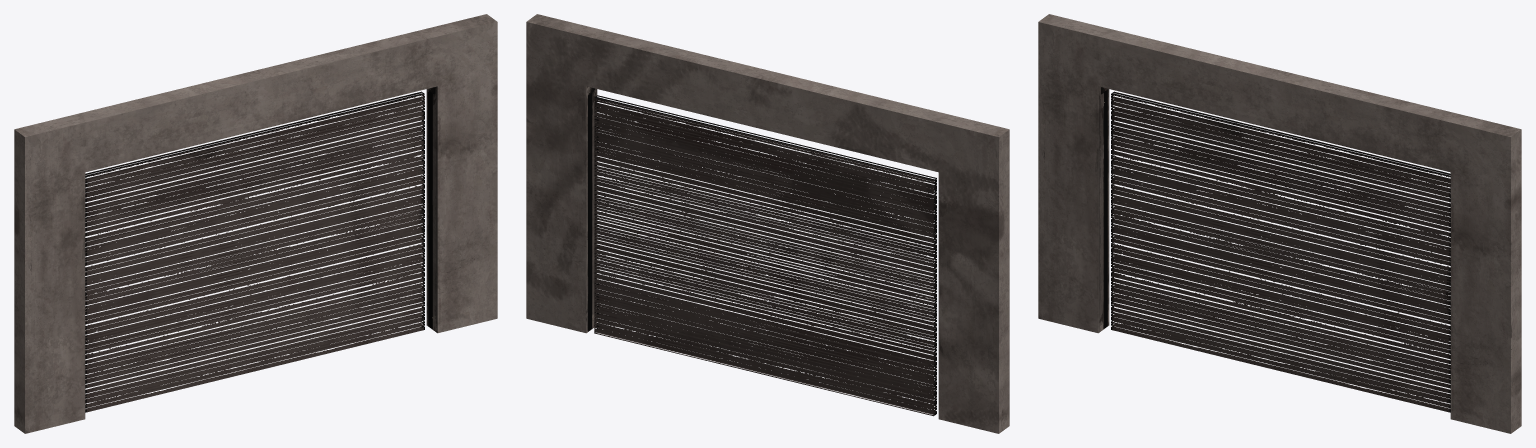
The model's file is shutter_v2.obj.
3 views of the same model, side by side, from view 1: azimuth 30°, elevation 25°; view 2: azimuth 150°, elevation 25°; view 3: azimuth 330°, elevation 25° (orthographic).
Parts seen in each view (by area): view 1: shutter_v2; view 2: shutter_v2; view 3: shutter_v2.
Part boxes in pixels (left/top/right/bottom): shutter_v2: left=14, top=14, right=497, bottom=433; shutter_v2: left=526, top=14, right=1009, bottom=433; shutter_v2: left=1038, top=14, right=1521, bottom=433.
Size of the model in its own units: 500 by 300 by 19.83.
